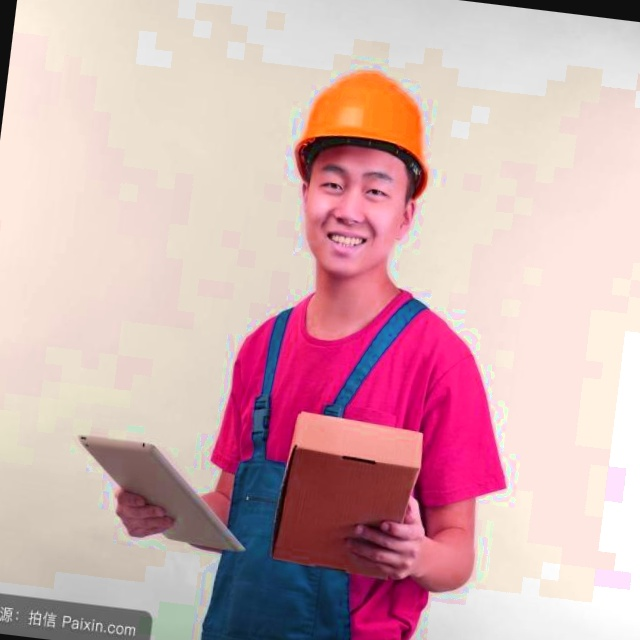Con_Casco: (282, 63, 445, 286)
Sin_Chaleco: (211, 275, 467, 614)
